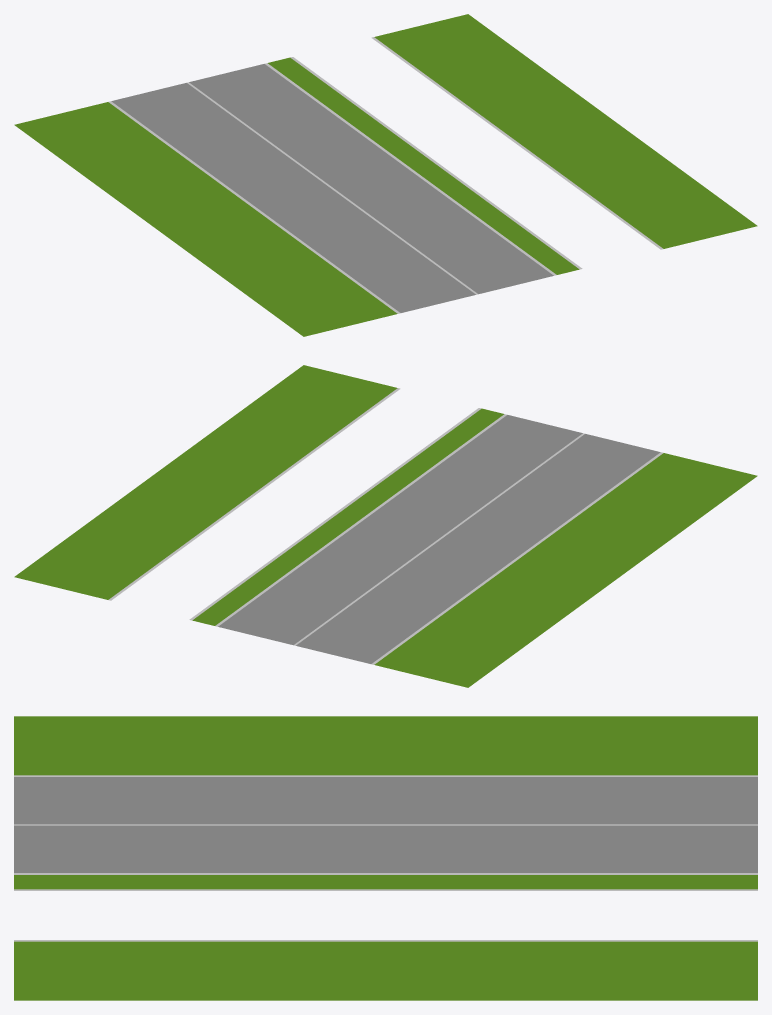
Rendered from RoadB.fbx.
The picture shows the model from 3 angles, top to bottom: view 1: azimuth 30°, elevation 25°; view 2: azimuth 150°, elevation 25°; view 3: azimuth 270°, elevation 25°; orthographic projection. The views are drawn at different scales.
Visible parts, largest first — view 1: RoadB; view 2: RoadB; view 3: RoadB.
Part boxes in pixels (x1,y1,x2,y2): RoadB: [14, 14, 757, 336]; RoadB: [14, 365, 757, 687]; RoadB: [14, 716, 757, 1000].
Size of the model in its own units: 6981 by 0.000214 by 7711.
1 material, 1 textured.
